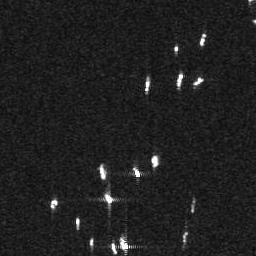ship: (192, 75, 205, 88), (97, 163, 107, 179), (119, 238, 130, 251), (151, 153, 159, 169), (199, 31, 207, 47), (131, 166, 141, 178), (144, 77, 151, 94), (176, 72, 183, 89), (104, 193, 114, 204), (75, 216, 81, 231), (111, 243, 118, 255), (49, 200, 59, 208), (88, 238, 95, 246)
